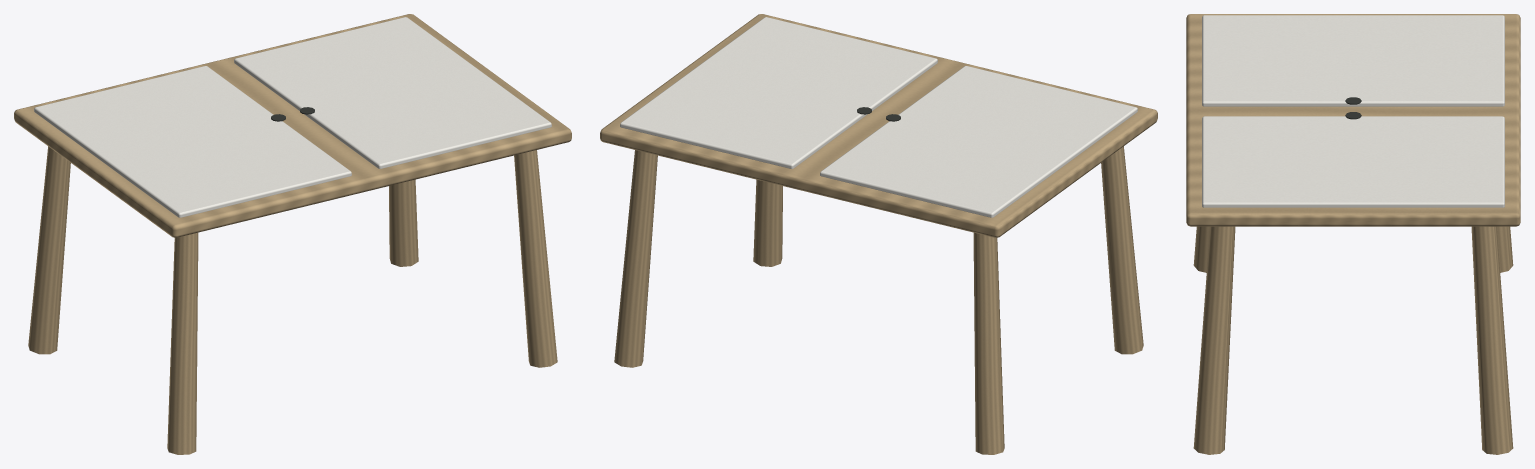
File: flisat-mobile.glb
3 renders of one model, left to right at view 1: azimuth 30°, elevation 25°; view 2: azimuth 150°, elevation 25°; view 3: azimuth 270°, elevation 25°, orthographic. The views are drawn at different scales.
Visible parts, largest first — view 1: FLISAT Children’s table; view 2: FLISAT Children’s table; view 3: FLISAT Children’s table.
Boxes of the visible parts, x1,y1,x2,y2 form: FLISAT Children’s table: (14,14,571,454); FLISAT Children’s table: (600,14,1157,454); FLISAT Children’s table: (1186,14,1520,454).
Bounding box in the file's own units: 0.83 × 0.48 × 0.58.
Materials: 3 (3 with a texture image).
